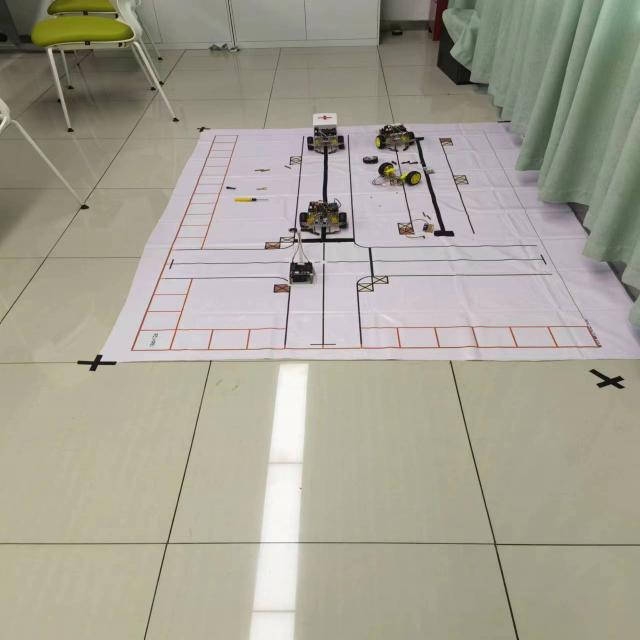RedCross: (316, 114, 334, 121)
